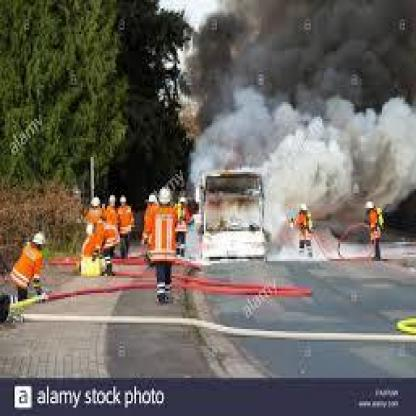smoke: (175, 2, 409, 207)
